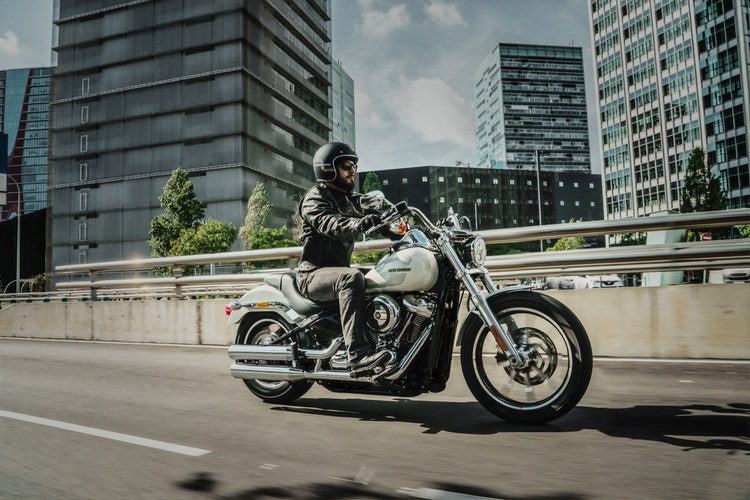helmet: (307, 142, 365, 184)
